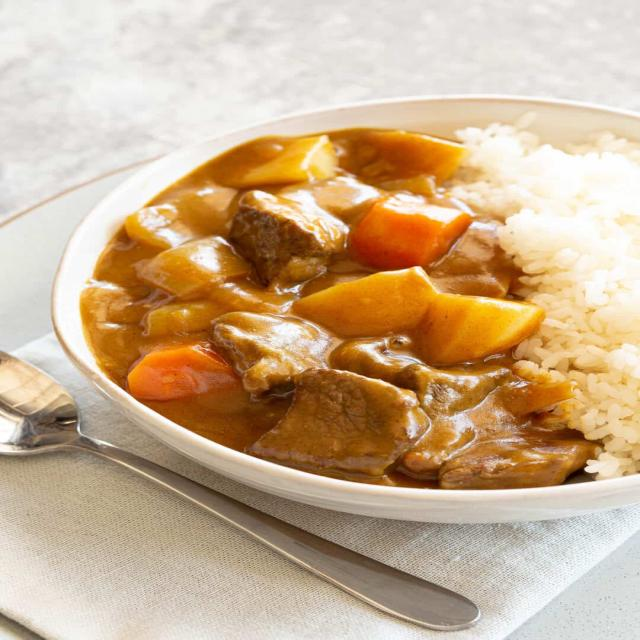Carbohydrate: (440, 119, 640, 490)
Curry: (38, 70, 640, 545)
Protein: (221, 312, 569, 494), (231, 187, 368, 276)
Vegetable: (307, 140, 539, 380), (95, 205, 244, 414)
